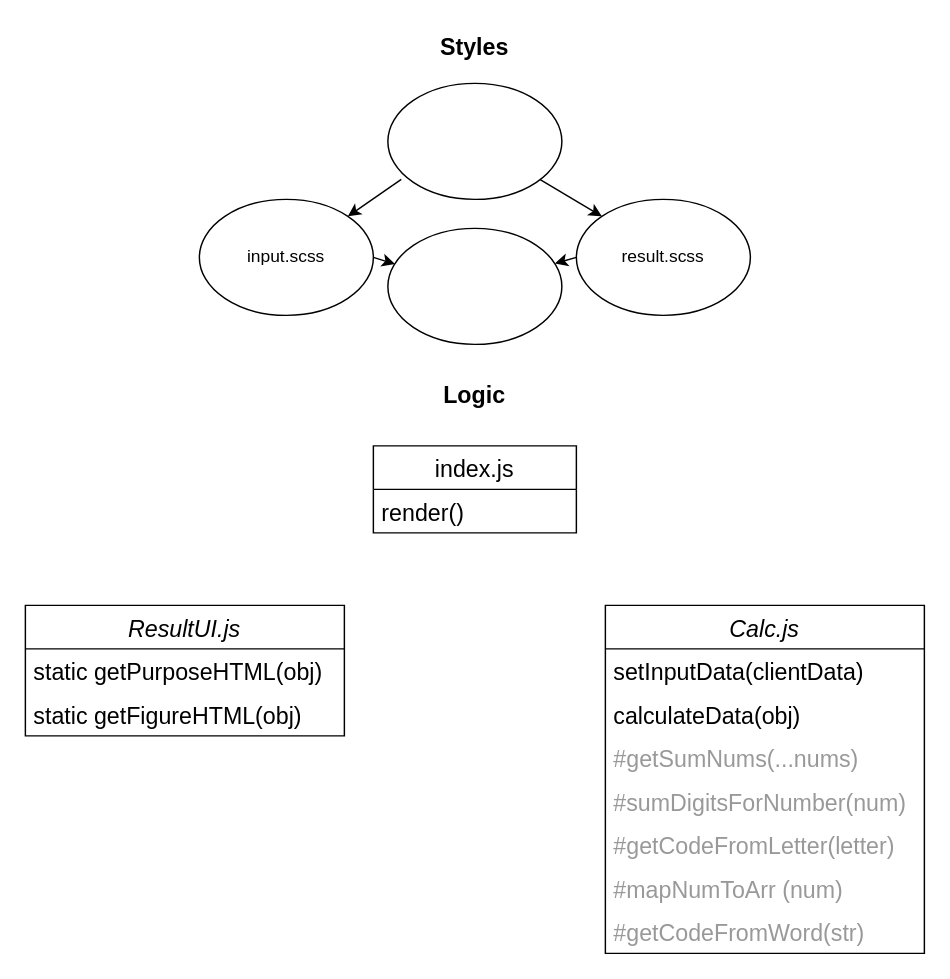
This 950x979 diagram has some shape labels left out. The centre of each missing label's shape, as x and y in pixels:
"_variables.scss" belongs at (474,285).
"index.scss" belongs at (474,140).
